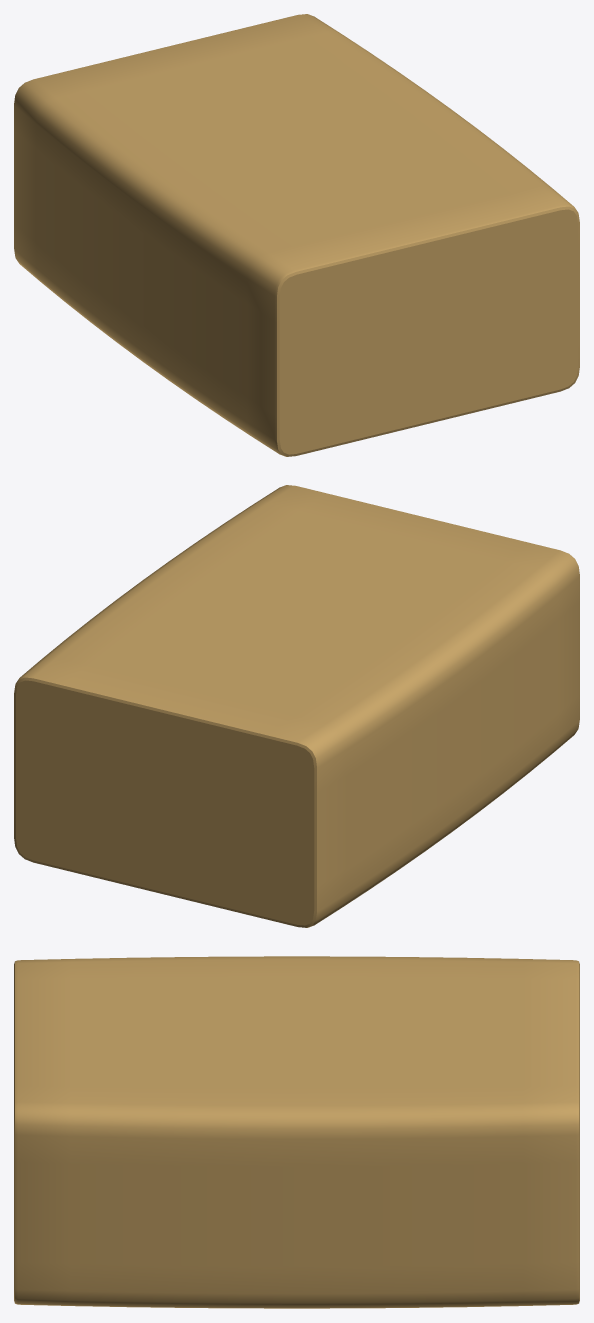
Rendered from Soap.fbx.
3 renders of one model, top to bottom at view 1: azimuth 30°, elevation 25°; view 2: azimuth 150°, elevation 25°; view 3: azimuth 270°, elevation 25°, orthographic. The views are drawn at different scales.
Parts seen in each view (by area): view 1: soap; view 2: soap; view 3: soap.
Part boxes in pixels (box(x1,y1,x2,y2)): soap: box(14, 14, 579, 456); soap: box(14, 485, 579, 927); soap: box(14, 956, 579, 1308).
Bounding box in the file's own units: 2.41 × 1.33 × 3.43.
